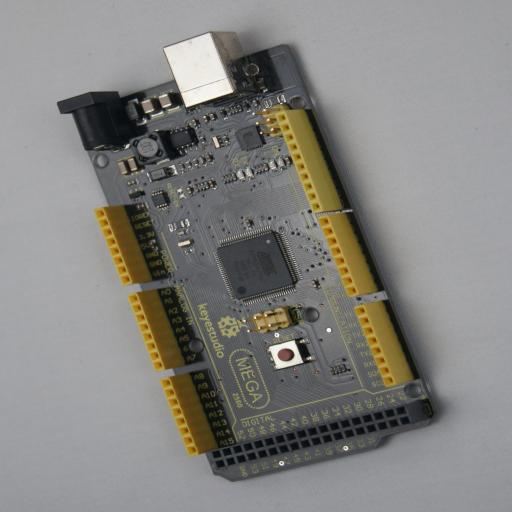Arduino Mega 2560 -Black and Yellow-: (57, 31, 448, 482)
